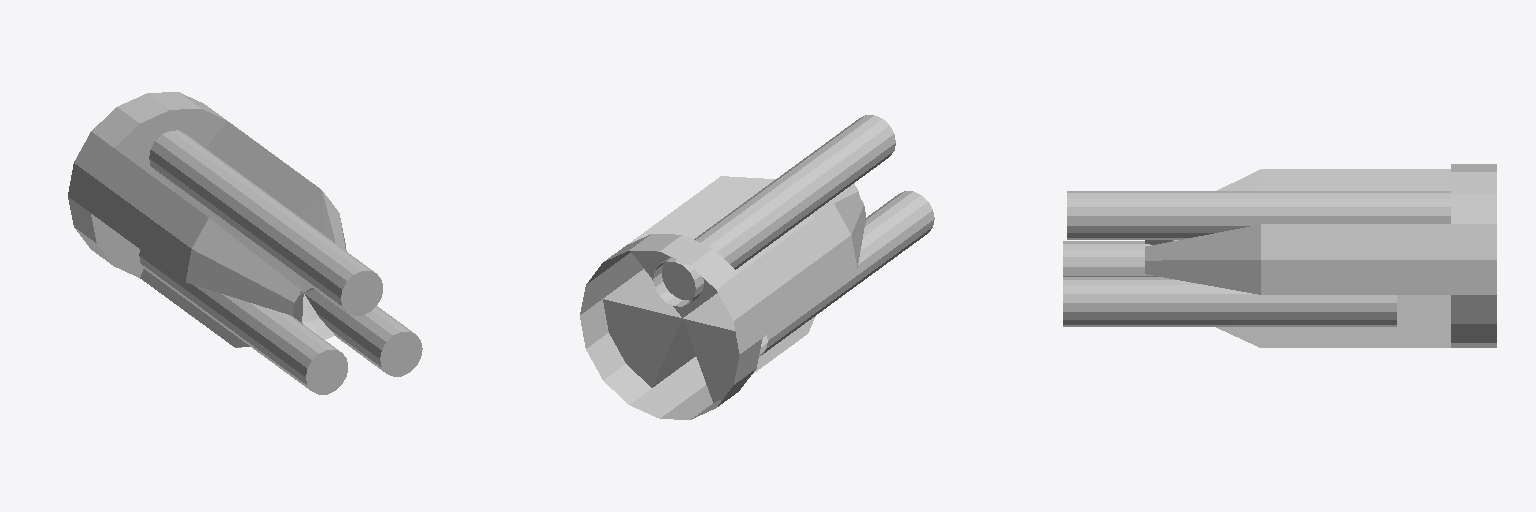
File: spindle.obj
The picture shows the model from 3 angles: view 1: azimuth 30°, elevation 25°; view 2: azimuth 150°, elevation 25°; view 3: azimuth 270°, elevation 25°; orthographic projection.
Visible parts, largest first — view 1: Cylinder.004_Cylinder.013, Cylinder.003_Cylinder.009, Cylinder.002_Cylinder.007; view 2: Cylinder.004_Cylinder.013, Cylinder.003_Cylinder.009, Cylinder.002_Cylinder.007; view 3: Cylinder.004_Cylinder.013, Cylinder.002_Cylinder.007, Cylinder.003_Cylinder.009.
Boxes of the visible parts, <box> form: Cylinder.004_Cylinder.013: <box>68,92,346,347</box>; Cylinder.003_Cylinder.009: <box>149,130,382,315</box>; Cylinder.002_Cylinder.007: <box>139,250,422,394</box>; Cylinder.004_Cylinder.013: <box>580,176,865,419</box>; Cylinder.003_Cylinder.009: <box>653,115,895,306</box>; Cylinder.002_Cylinder.007: <box>759,184,934,355</box>; Cylinder.004_Cylinder.013: <box>1145,164,1496,347</box>; Cylinder.002_Cylinder.007: <box>1063,241,1396,326</box>; Cylinder.003_Cylinder.009: <box>1067,191,1450,239</box>.
Size of the model in its own units: 2.49 by 2.49 by 5.85.